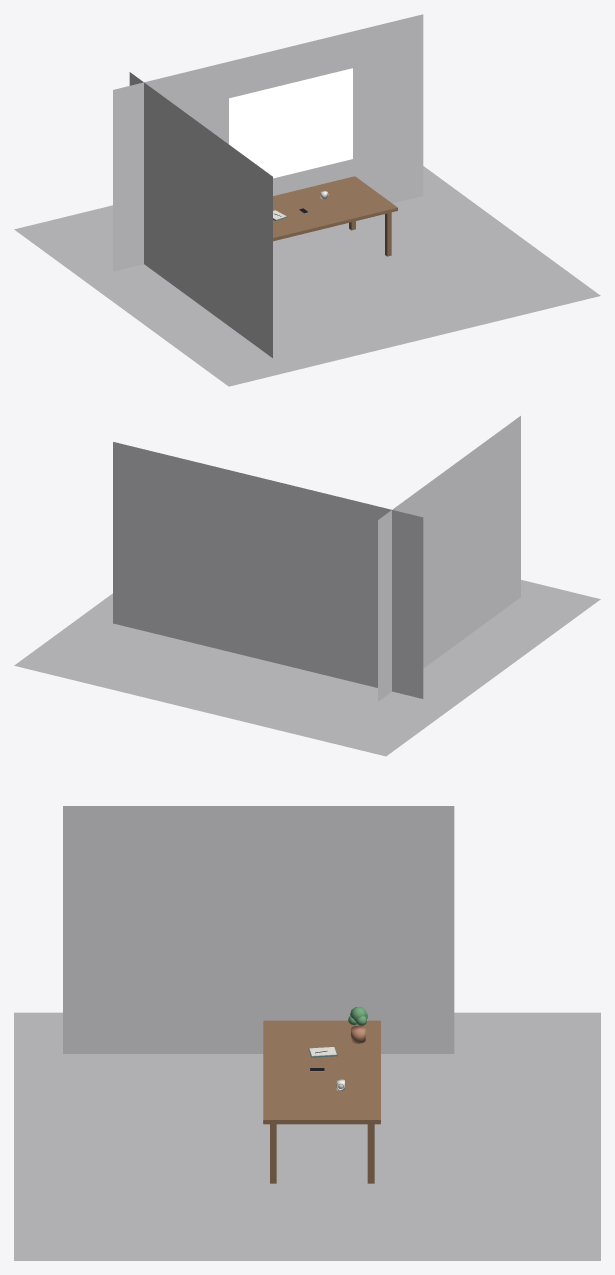
File: phone_intro.glb
3 views of the same model, one above another, from view 1: azimuth 30°, elevation 25°; view 2: azimuth 150°, elevation 25°; view 3: azimuth 270°, elevation 25° (orthographic). The views are drawn at different scales.
Parts seen in each view (by area): view 1: Floor, BackWall, SideWall, Window, Desk; view 2: BackWall, Floor, SideWall; view 3: Floor, SideWall, Desk.
Boxes of the visible parts, x1=… form: Floor: x1=14, y1=166, x2=600, y2=386; BackWall: x1=113, y1=14, x2=423, y2=271; SideWall: x1=129, y1=72, x2=272, y2=357; Window: x1=229, y1=68, x2=352, y2=178; Desk: x1=273, y1=176, x2=397, y2=241; BackWall: x1=113, y1=442, x2=423, y2=698; Floor: x1=14, y1=580, x2=600, y2=756; SideWall: x1=378, y1=416, x2=520, y2=701; Floor: x1=14, y1=1012, x2=600, y2=1260; SideWall: x1=63, y1=806, x2=454, y2=1053; Desk: x1=263, y1=1020, x2=380, y2=1124.
Size of the model in its own units: 6 by 2.8 by 6.
